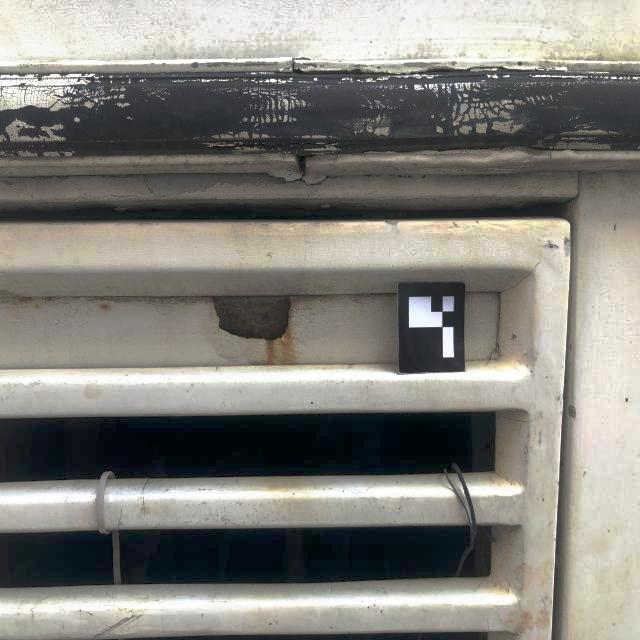Corrosion: (212, 296, 290, 340)
